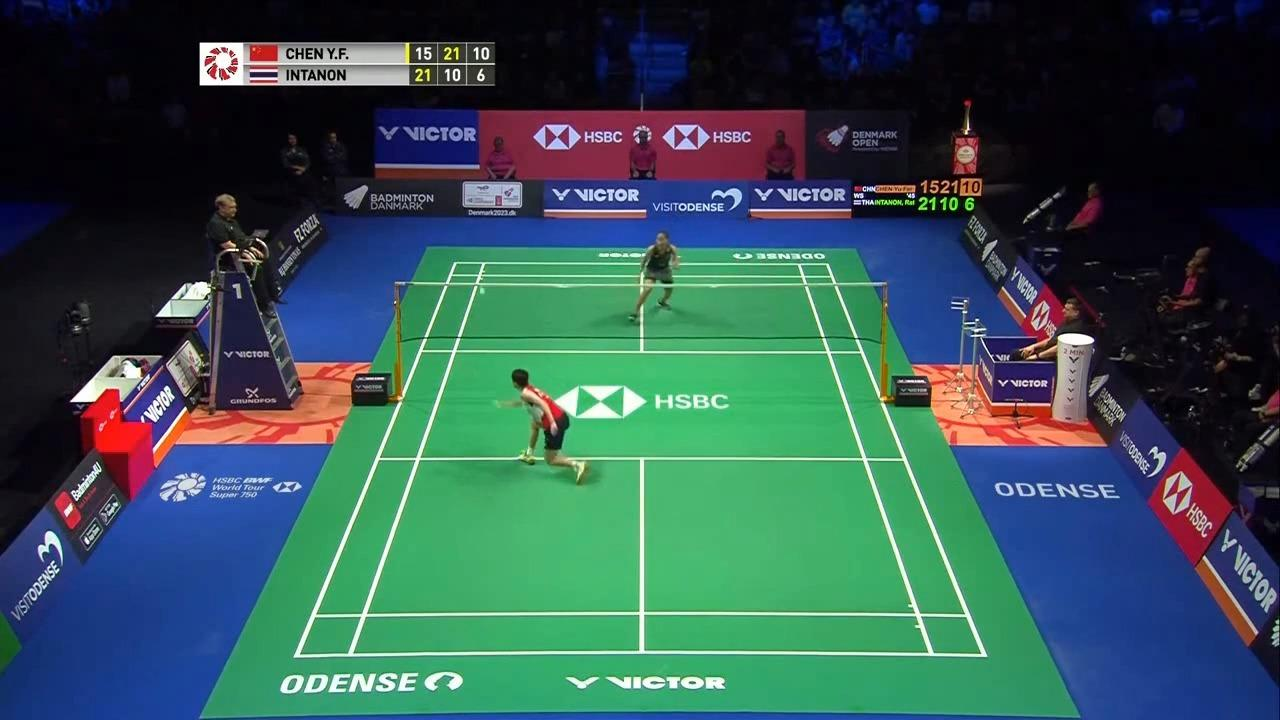shuttle: (479, 286, 487, 298)
